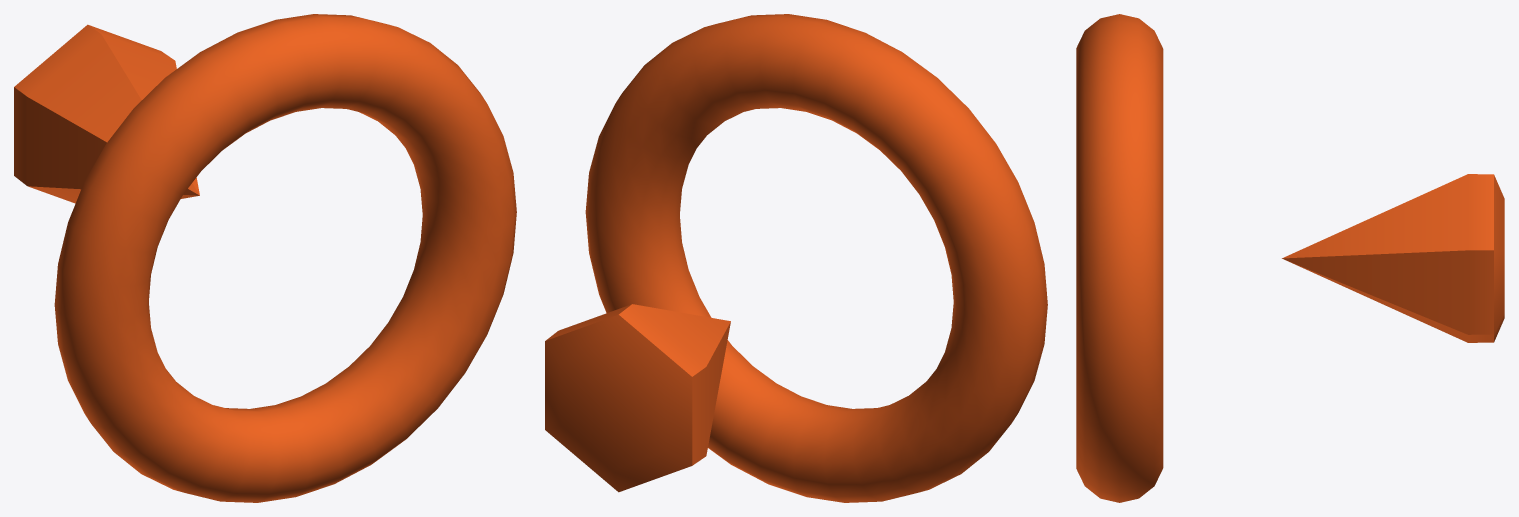
File: PointerObject.fbx
3 renders of one model, left to right at view 1: azimuth 30°, elevation 25°; view 2: azimuth 150°, elevation 25°; view 3: azimuth 270°, elevation 25°, orthographic. The views are drawn at different scales.
Parts seen in each view (by area): view 1: PlayerPointerObject, PlayerPointerObject.001; view 2: PlayerPointerObject, PlayerPointerObject.001; view 3: PlayerPointerObject, PlayerPointerObject.001.
Part boxes in pixels (box(x1,y1,x2,y2)): PlayerPointerObject: box(54, 14, 516, 502); PlayerPointerObject.001: box(14, 24, 199, 203); PlayerPointerObject: box(585, 14, 1047, 502); PlayerPointerObject.001: box(545, 304, 730, 492); PlayerPointerObject: box(1076, 14, 1163, 502); PlayerPointerObject.001: box(1282, 174, 1504, 342).
Bounding box in the file's own units: 0.7004 × 0.7004 × 0.6116.
